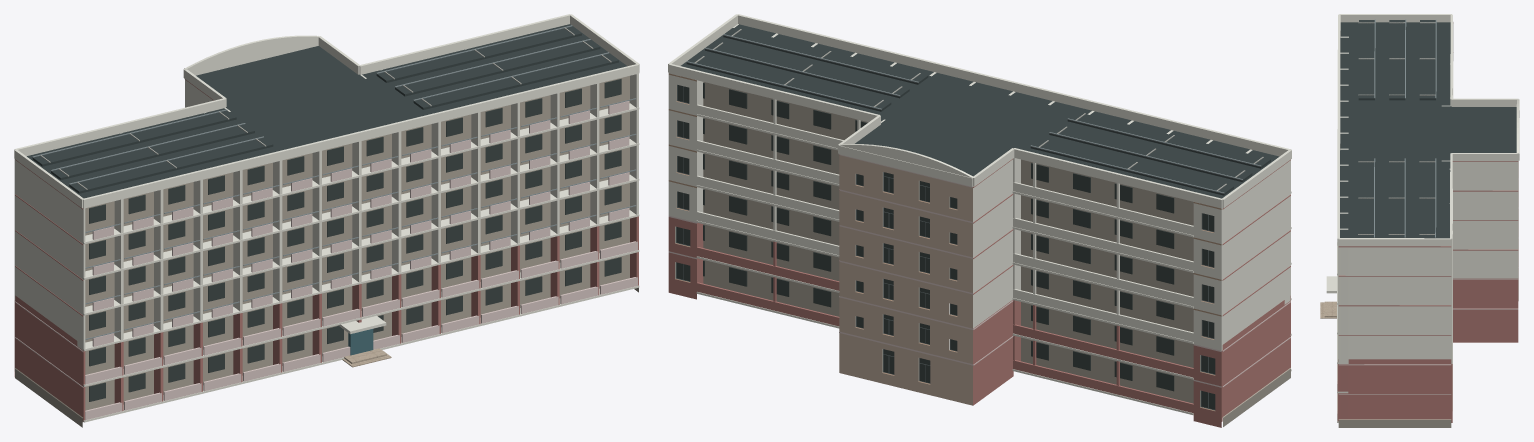
File: chunk-dorm-way-759147072.glb
The picture shows the model from 3 angles, left to right: view 1: azimuth 30°, elevation 25°; view 2: azimuth 150°, elevation 25°; view 3: azimuth 270°, elevation 25°; orthographic projection. The views are drawn at different scales.
Parts seen in each view (by area): view 1: chunk-dorm-way-759147072; view 2: chunk-dorm-way-759147072; view 3: chunk-dorm-way-759147072.
Boxes of the visible parts, bbox=[...] form: chunk-dorm-way-759147072: bbox=[14, 14, 639, 427]; chunk-dorm-way-759147072: bbox=[668, 14, 1291, 427]; chunk-dorm-way-759147072: bbox=[1320, 14, 1519, 427].
Size of the model in its own units: 54.02 by 22.1 by 20.23.
13 materials, 2 textured.
